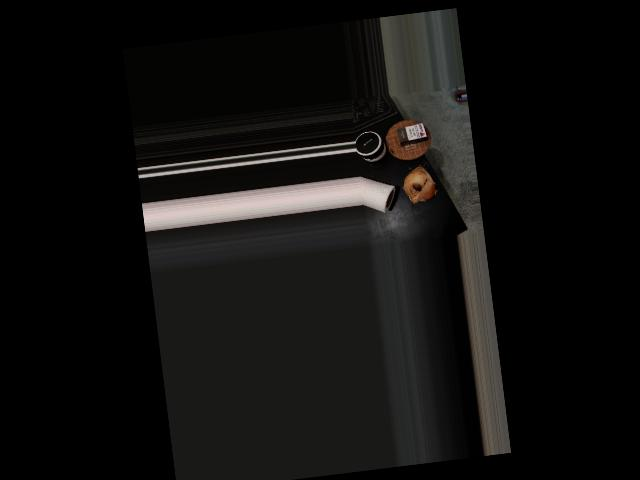onion: (399, 163, 440, 206)
